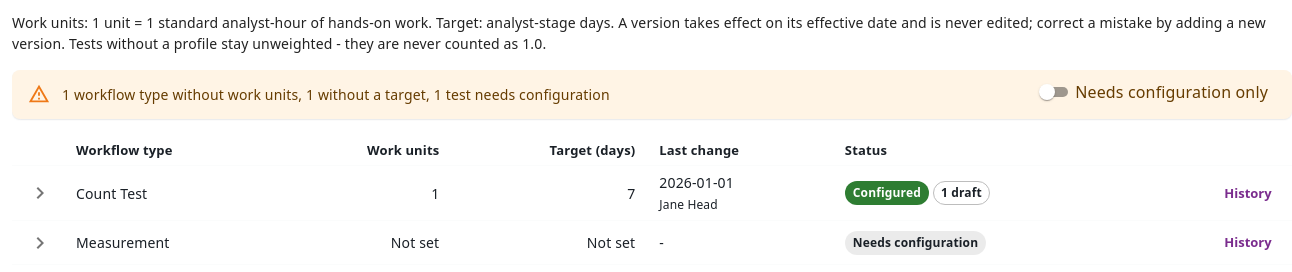
WorkflowProfilesPanel › needs-configuration filter hides fully configured types
Expected: the text "Count Test" is shown, [64,166,279,221]
Step 1. Click the switch labelled "Needs configuration only" → (1152, 92), box [1035,80,1268,104]
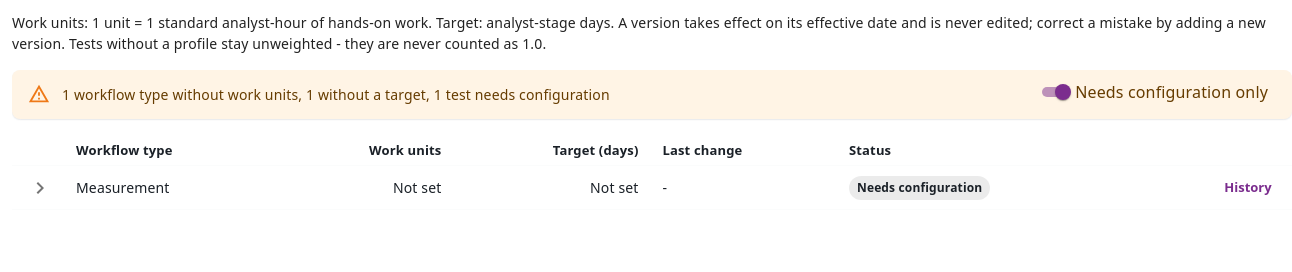
Expected: the text "Measurement" is shown, [64,166,280,210]
Result: the text "Count Test" is gone
